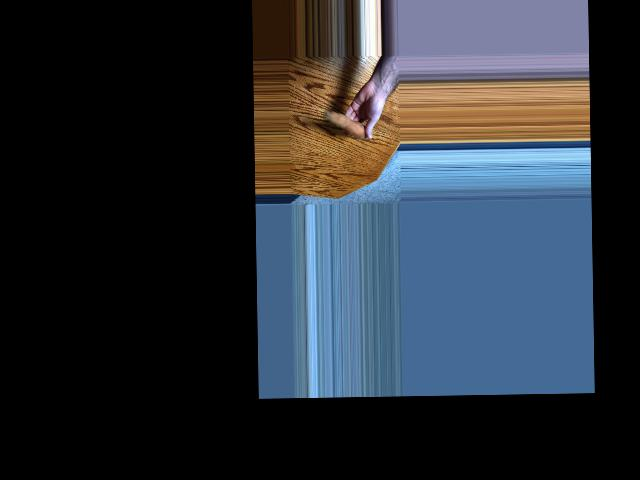sweet_potato: (322, 105, 374, 141)
